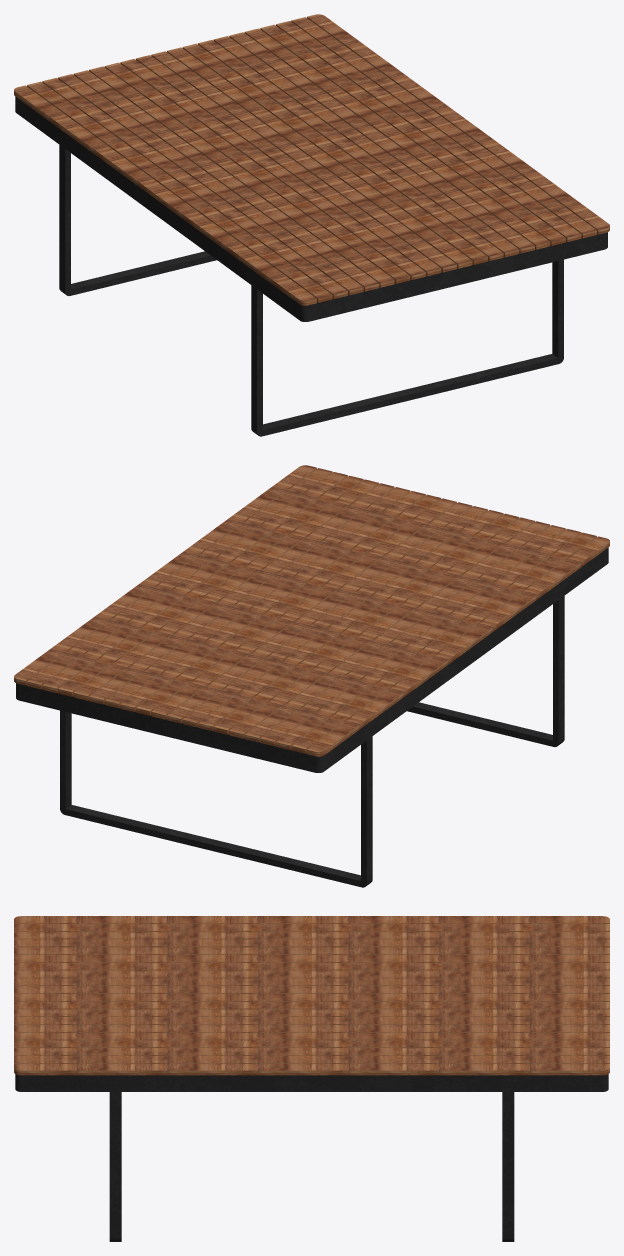
Rendered from Table.obj.
The picture shows the model from 3 angles, top to bottom: view 1: azimuth 30°, elevation 25°; view 2: azimuth 150°, elevation 25°; view 3: azimuth 270°, elevation 25°; orthographic projection. The views are drawn at different scales.
Visible parts, largest first — view 1: Cube.020; view 2: Cube.020; view 3: Cube.020.
Part boxes in pixels (<box>): Cube.020: <box>14,14,609,436</box>; Cube.020: <box>14,465,609,887</box>; Cube.020: <box>14,916,609,1241</box>.
Bounding box in the file's own units: 2.02 × 1.06 × 3.29.
2 materials, 2 textured.
